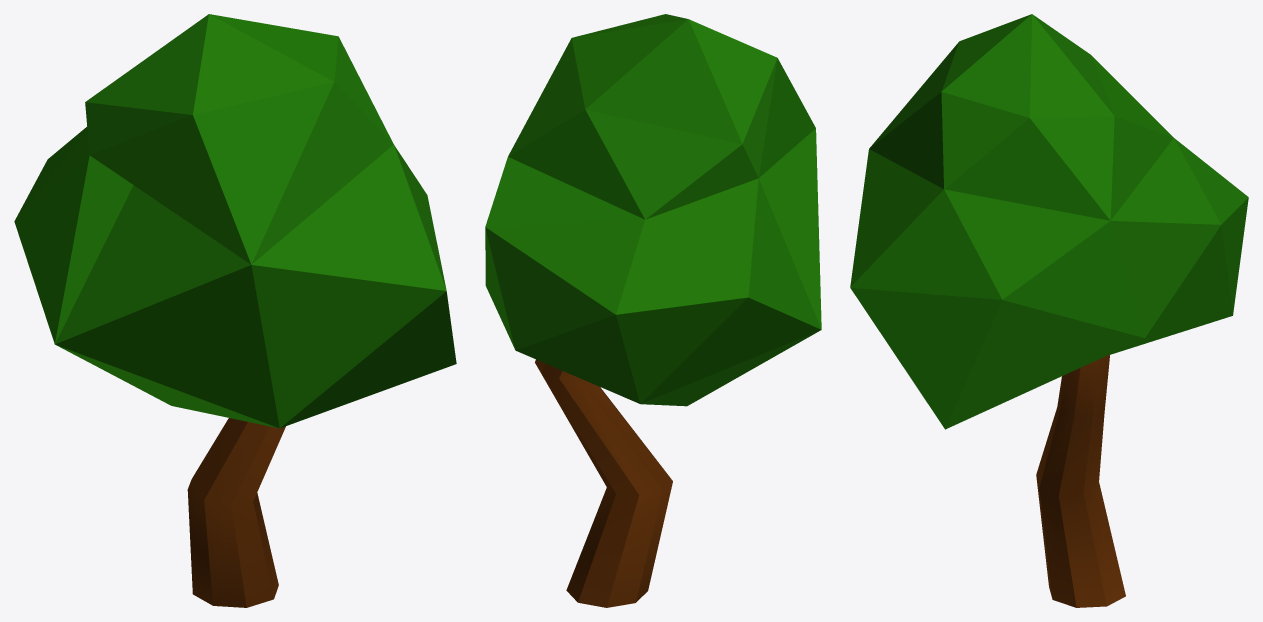
Rendered from tree-03.fbx.
3 views of the same model, side by side, from view 1: azimuth 30°, elevation 25°; view 2: azimuth 150°, elevation 25°; view 3: azimuth 270°, elevation 25° (orthographic). The views are drawn at different scales.
Visible parts, largest first — view 1: tree_03_tree, trunk; view 2: tree_03_tree, trunk; view 3: tree_03_tree, trunk.
Part boxes in pixels (<box>): tree_03_tree: <box>14,14,456,428</box>; trunk: <box>187,418,285,607</box>; tree_03_tree: <box>485,14,821,406</box>; trunk: <box>535,359,672,607</box>; tree_03_tree: <box>850,14,1248,429</box>; trunk: <box>1036,354,1125,607</box>.
Size of the model in its own units: 2.61 by 4.35 by 2.85.
